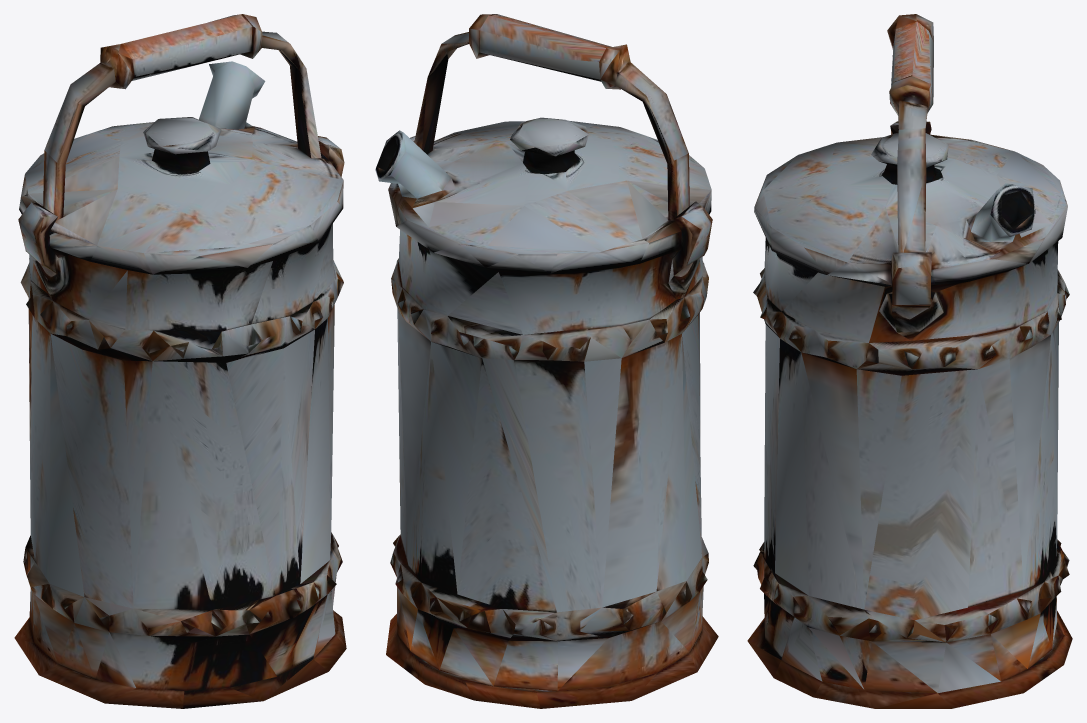
The model's file is lhi_water_can.glb.
3 views of the same model, side by side, from view 1: azimuth 30°, elevation 25°; view 2: azimuth 150°, elevation 25°; view 3: azimuth 270°, elevation 25° (orthographic). The views are drawn at different scales.
Visible parts, largest first — view 1: material; view 2: material; view 3: material.
Part boxes in pixels (x1,y1,x2,y2): material: [14, 14, 346, 708]; material: [375, 14, 718, 708]; material: [747, 14, 1072, 708].
Bounding box in the file's own units: 0.5755 × 1.08 × 0.5355.
Materials: 1 (1 with a texture image).
